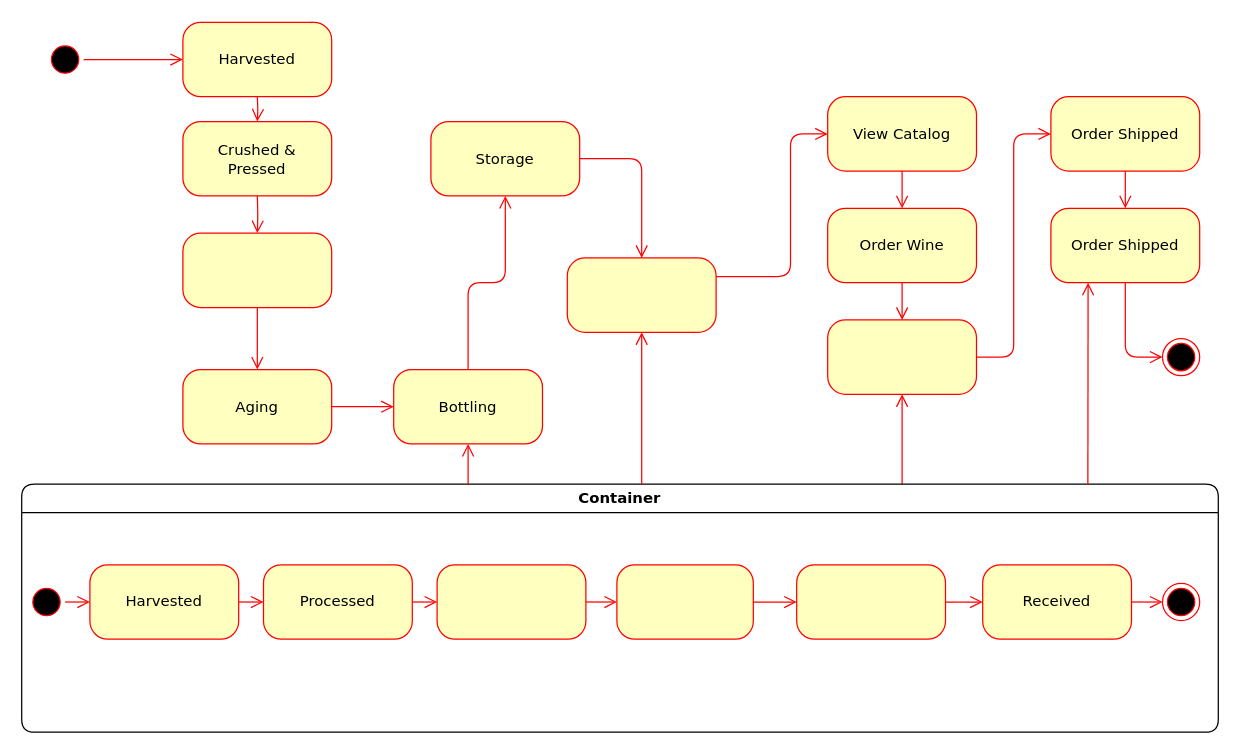
Some shapes in this 1240 by 754 pixel diagram are drawn without their labels. Here are the shapes that lost their labels. From the top down, the centre of each, then its label:
point (257, 270): Clarification
point (641, 294): Catalog Wines
point (901, 356): Order Received
point (511, 601): Stored
point (684, 601): Ordered
point (870, 601): Shipped
